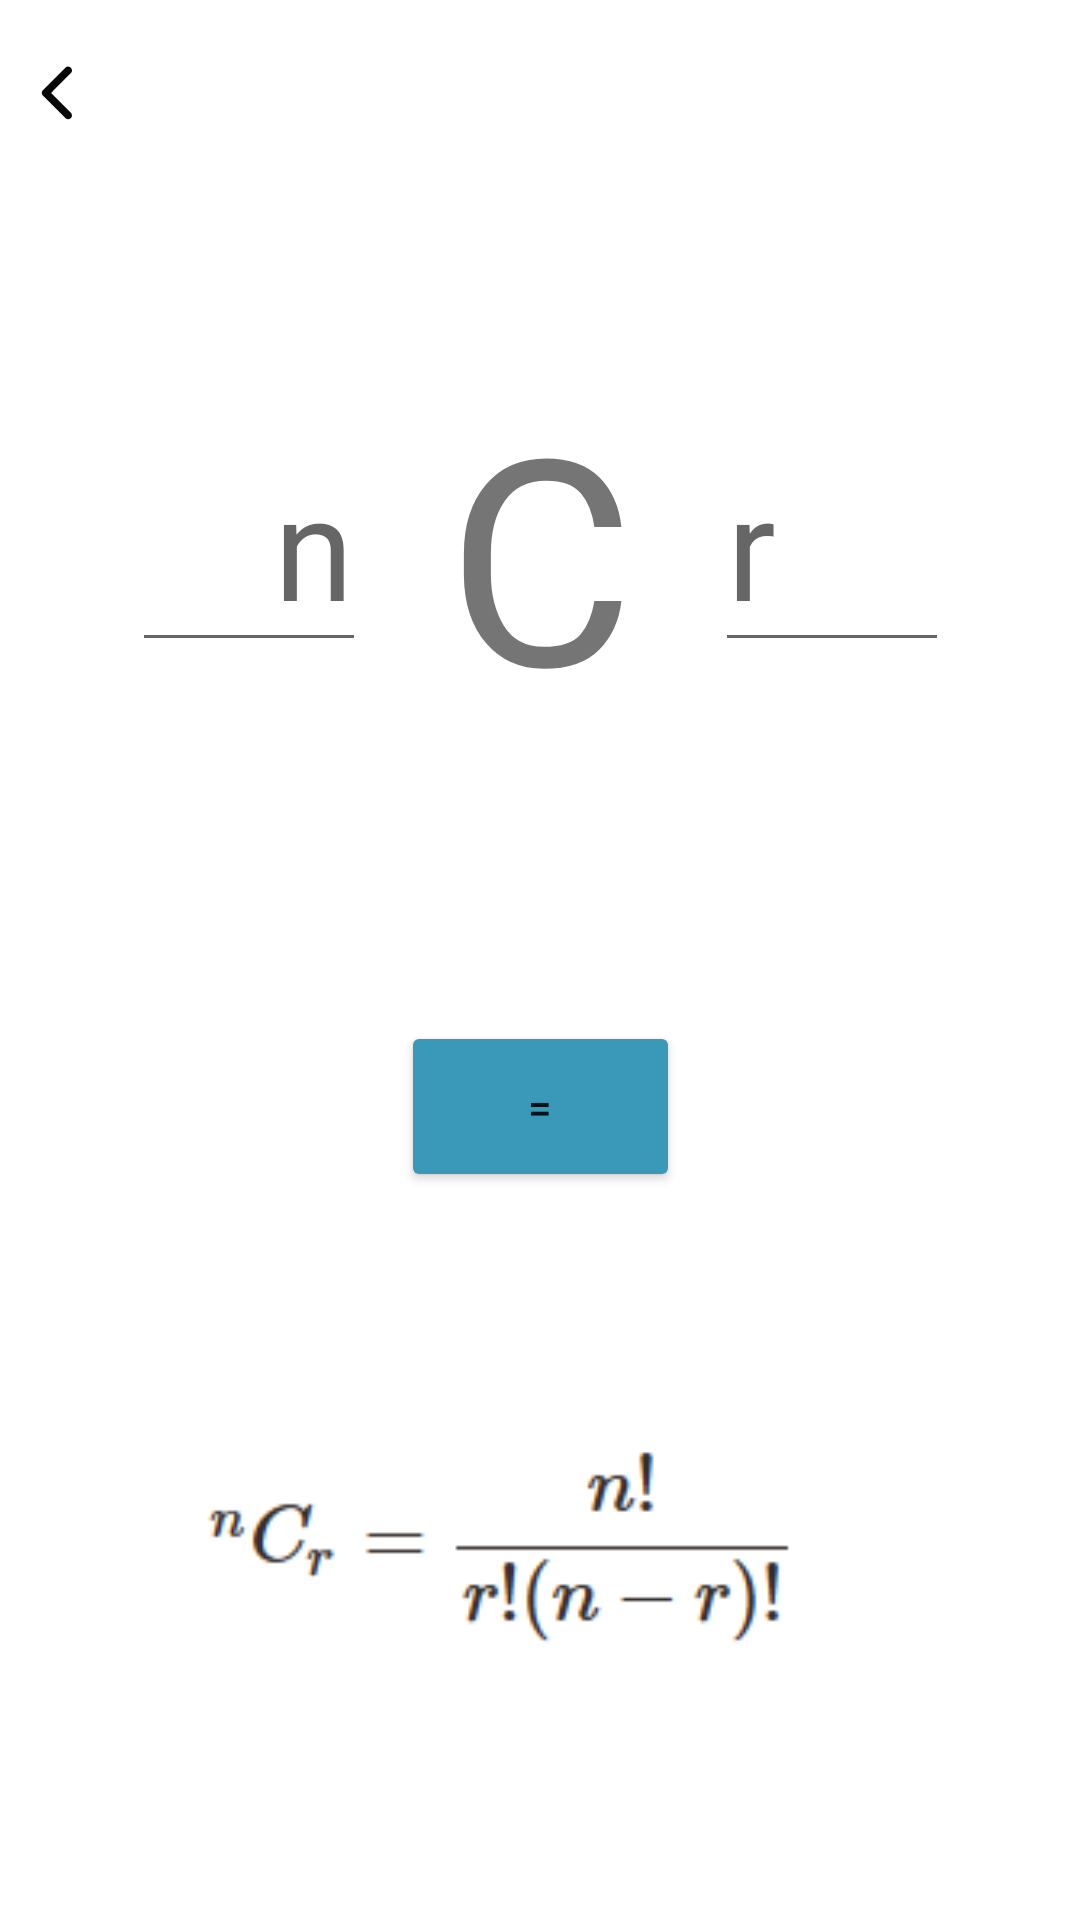

Icon bounding boxes for this 1080*1920 phone screenshot, format (x1, y1, x2, y2):
back: (41, 66, 72, 120)
